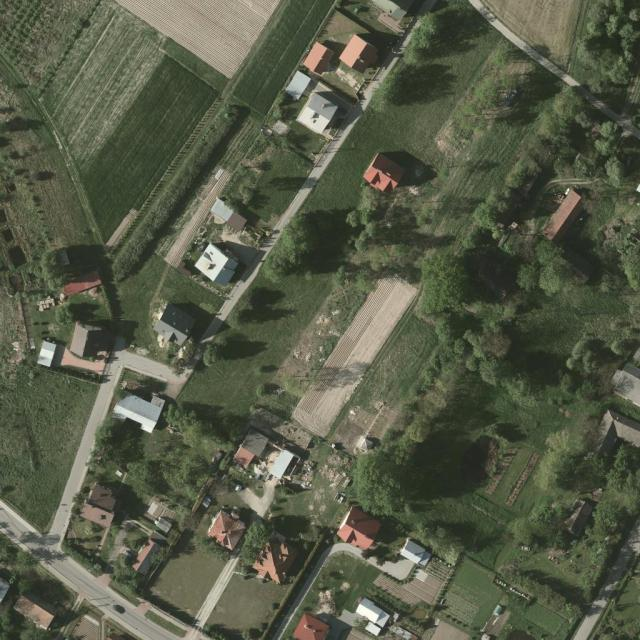building: (231, 427, 303, 491), (36, 318, 110, 375), (111, 382, 166, 434), (248, 534, 300, 589), (541, 188, 588, 245), (192, 240, 244, 290), (333, 506, 384, 556), (360, 152, 407, 199), (152, 303, 198, 349), (337, 33, 383, 78), (203, 507, 249, 552), (79, 482, 124, 528), (348, 594, 393, 638), (296, 91, 339, 136), (205, 197, 248, 237), (12, 594, 55, 632), (140, 497, 180, 535), (607, 360, 640, 406), (371, 0, 414, 33), (130, 536, 162, 577), (562, 498, 594, 538), (302, 41, 336, 78), (60, 269, 103, 297), (292, 611, 332, 640), (399, 539, 433, 569), (284, 70, 312, 101), (1, 577, 10, 602), (339, 609, 352, 622)
greenland: (154, 535, 283, 640), (569, 0, 639, 126), (487, 1, 583, 69)
